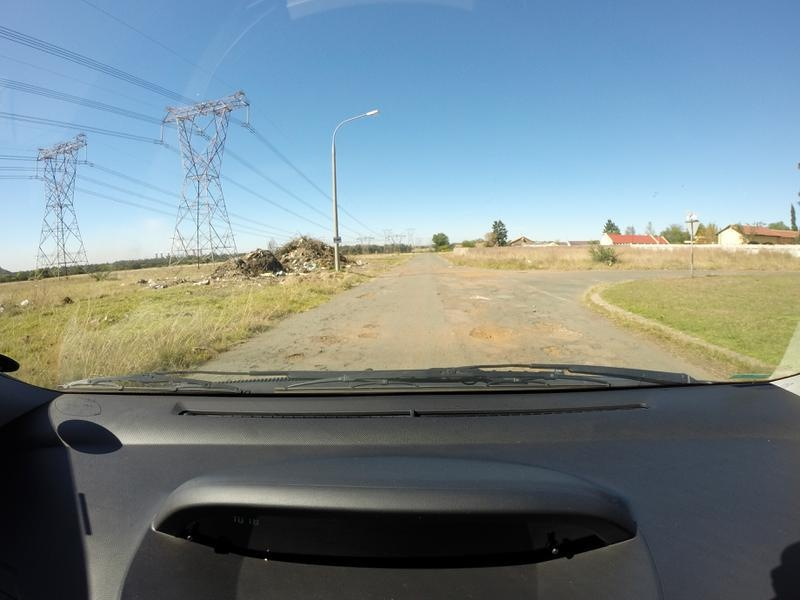pothole: (465, 316, 517, 346), (531, 311, 584, 339), (539, 341, 582, 363), (311, 327, 345, 349), (358, 328, 386, 347), (359, 284, 377, 305), (284, 349, 309, 362)
